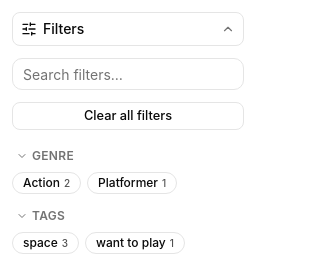
Test: FilterSidebar › shows an empty message when nothing matches
Type "zzz" into the field with test id "filter-search". click: x=128, y=74
box: [12,58,244,90]
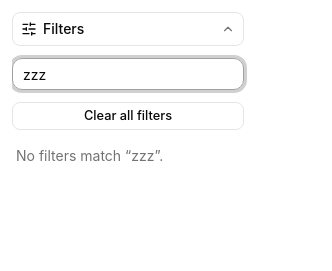
Expected: the text with test id "filter-search-empty" reads "No filters match “zzz”.", [16,147,163,164]
